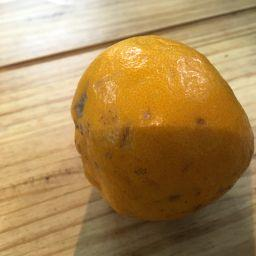Unripe: (73, 31, 256, 222)
